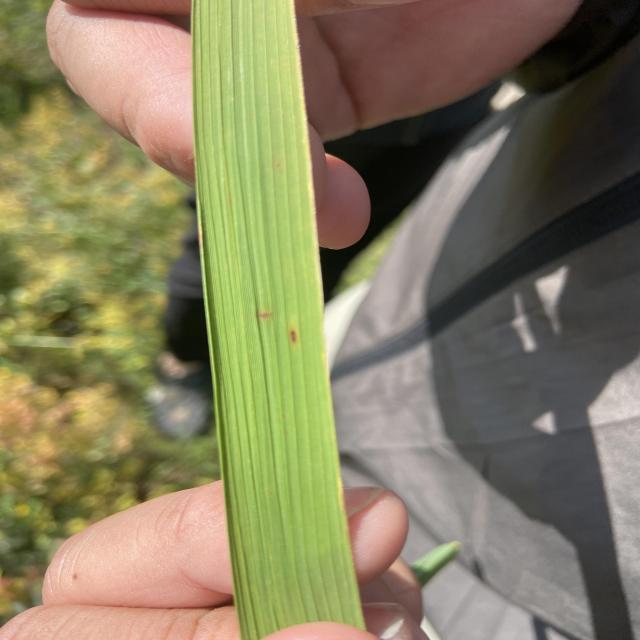Dom nau: (290, 330, 297, 343), (260, 313, 272, 318)
